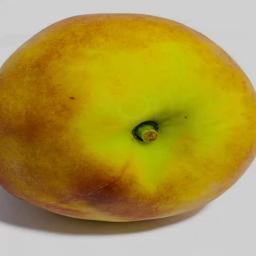Peach Semifresh: (1, 13, 256, 223)
